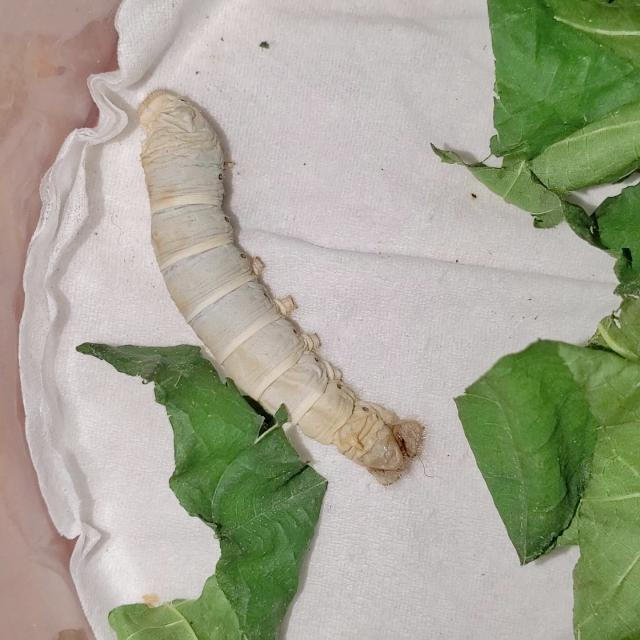Grasserie: (108, 80, 437, 496)
